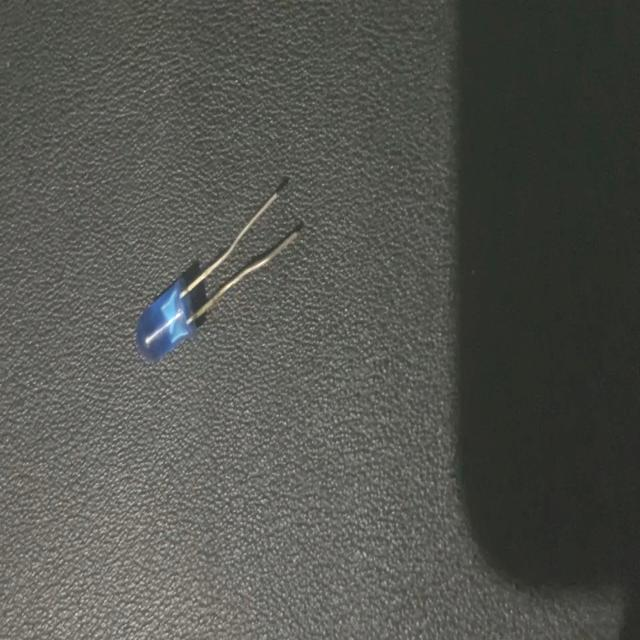LED: (133, 186, 303, 365)
